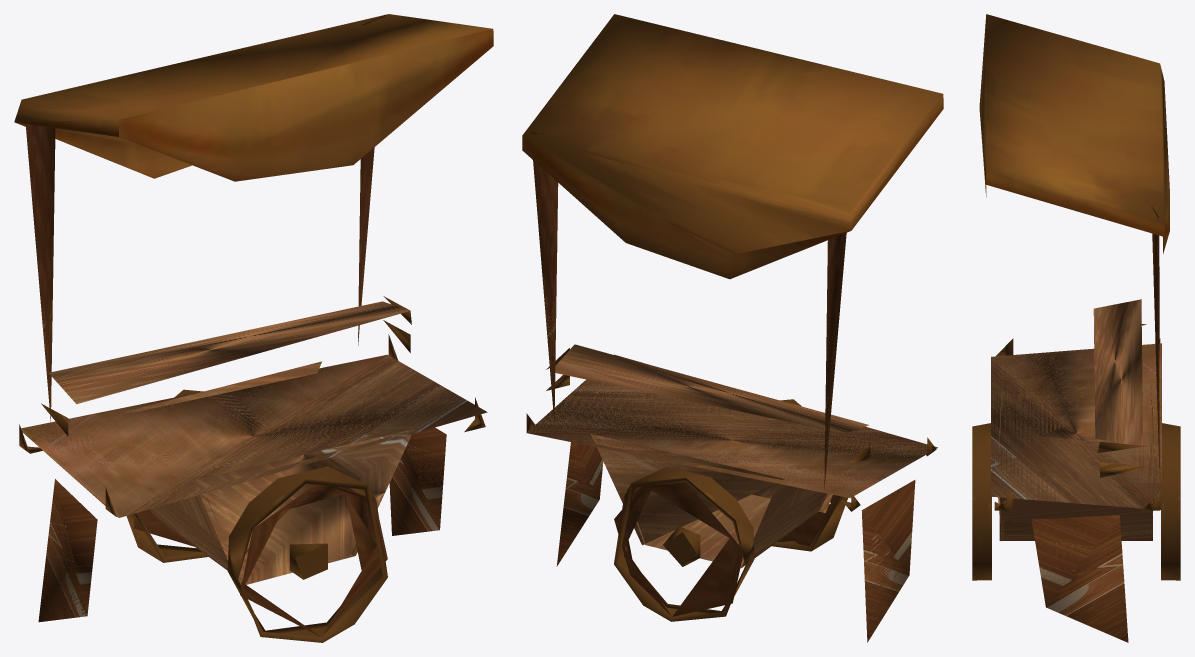
File: Stall_Cart_Empty.low.gltf
3 renders of one model, left to right at view 1: azimuth 30°, elevation 25°; view 2: azimuth 150°, elevation 25°; view 3: azimuth 270°, elevation 25°, orthographic. The views are drawn at different scales.
Visible parts, largest first — view 1: Stall_Cart_Empty; view 2: Stall_Cart_Empty; view 3: Stall_Cart_Empty.
Part boxes in pixels (<box>): Stall_Cart_Empty: <box>14,14,493,642</box>; Stall_Cart_Empty: <box>522,14,943,642</box>; Stall_Cart_Empty: <box>972,14,1180,642</box>.
Bounding box in the file's own units: 1.82 × 2.62 × 1.03.
3 materials, 3 textured.
